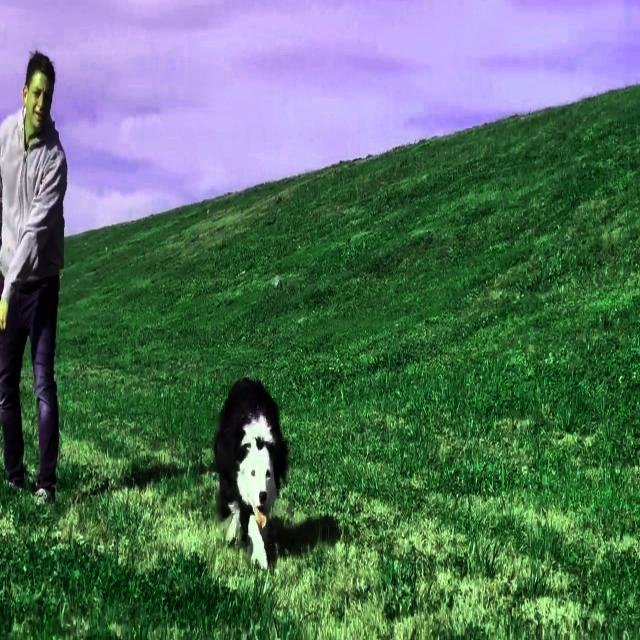Unleashed_Dog: (5, 287, 289, 570)
